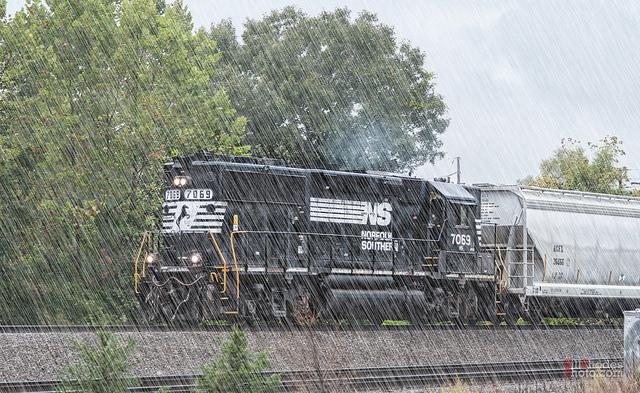Train: (137, 149, 640, 324)
